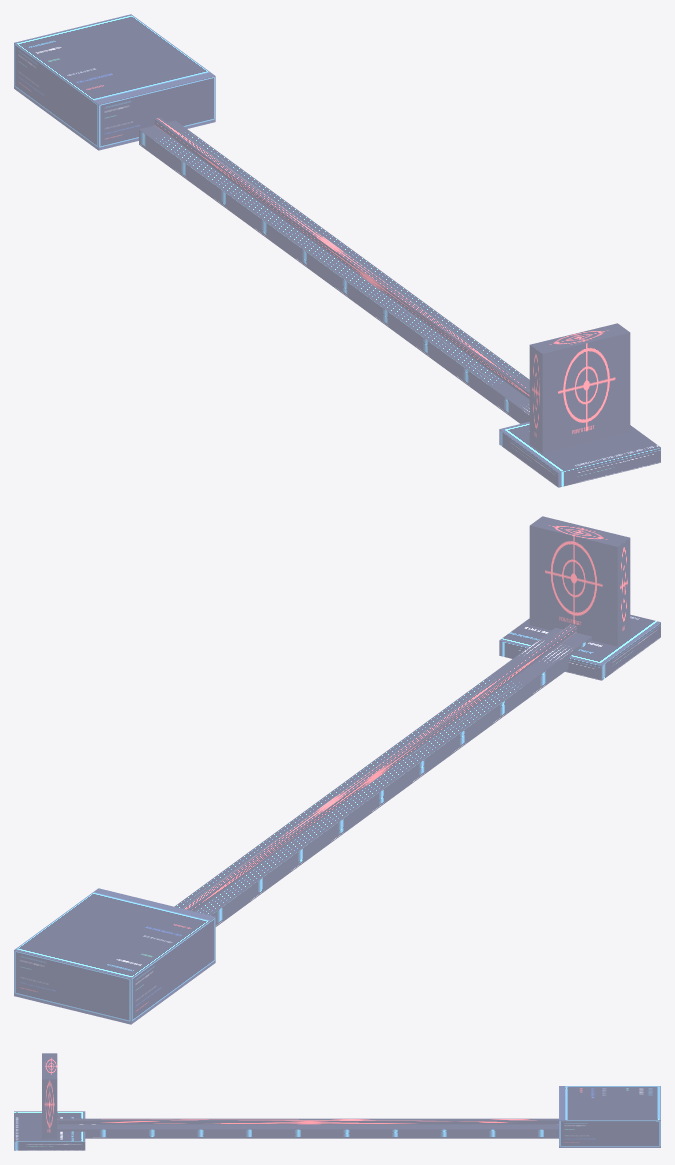
Rendered from laser_ruler.glb.
3 views of the same model, one above another, from view 1: azimuth 30°, elevation 25°; view 2: azimuth 150°, elevation 25°; view 3: azimuth 270°, elevation 25° (orthographic). The views are drawn at different scales.
Visible parts, largest first — view 1: AISpatialLaserMeasure; view 2: AISpatialLaserMeasure; view 3: AISpatialLaserMeasure.
Part boxes in pixels (<box>): AISpatialLaserMeasure: <box>14,14,660,487</box>; AISpatialLaserMeasure: <box>14,516,660,1024</box>; AISpatialLaserMeasure: <box>14,1053,660,1150</box>.
Bounding box in the file's own units: 0.16 × 0.15 × 1.27.
Materials: 1 (1 with a texture image).
